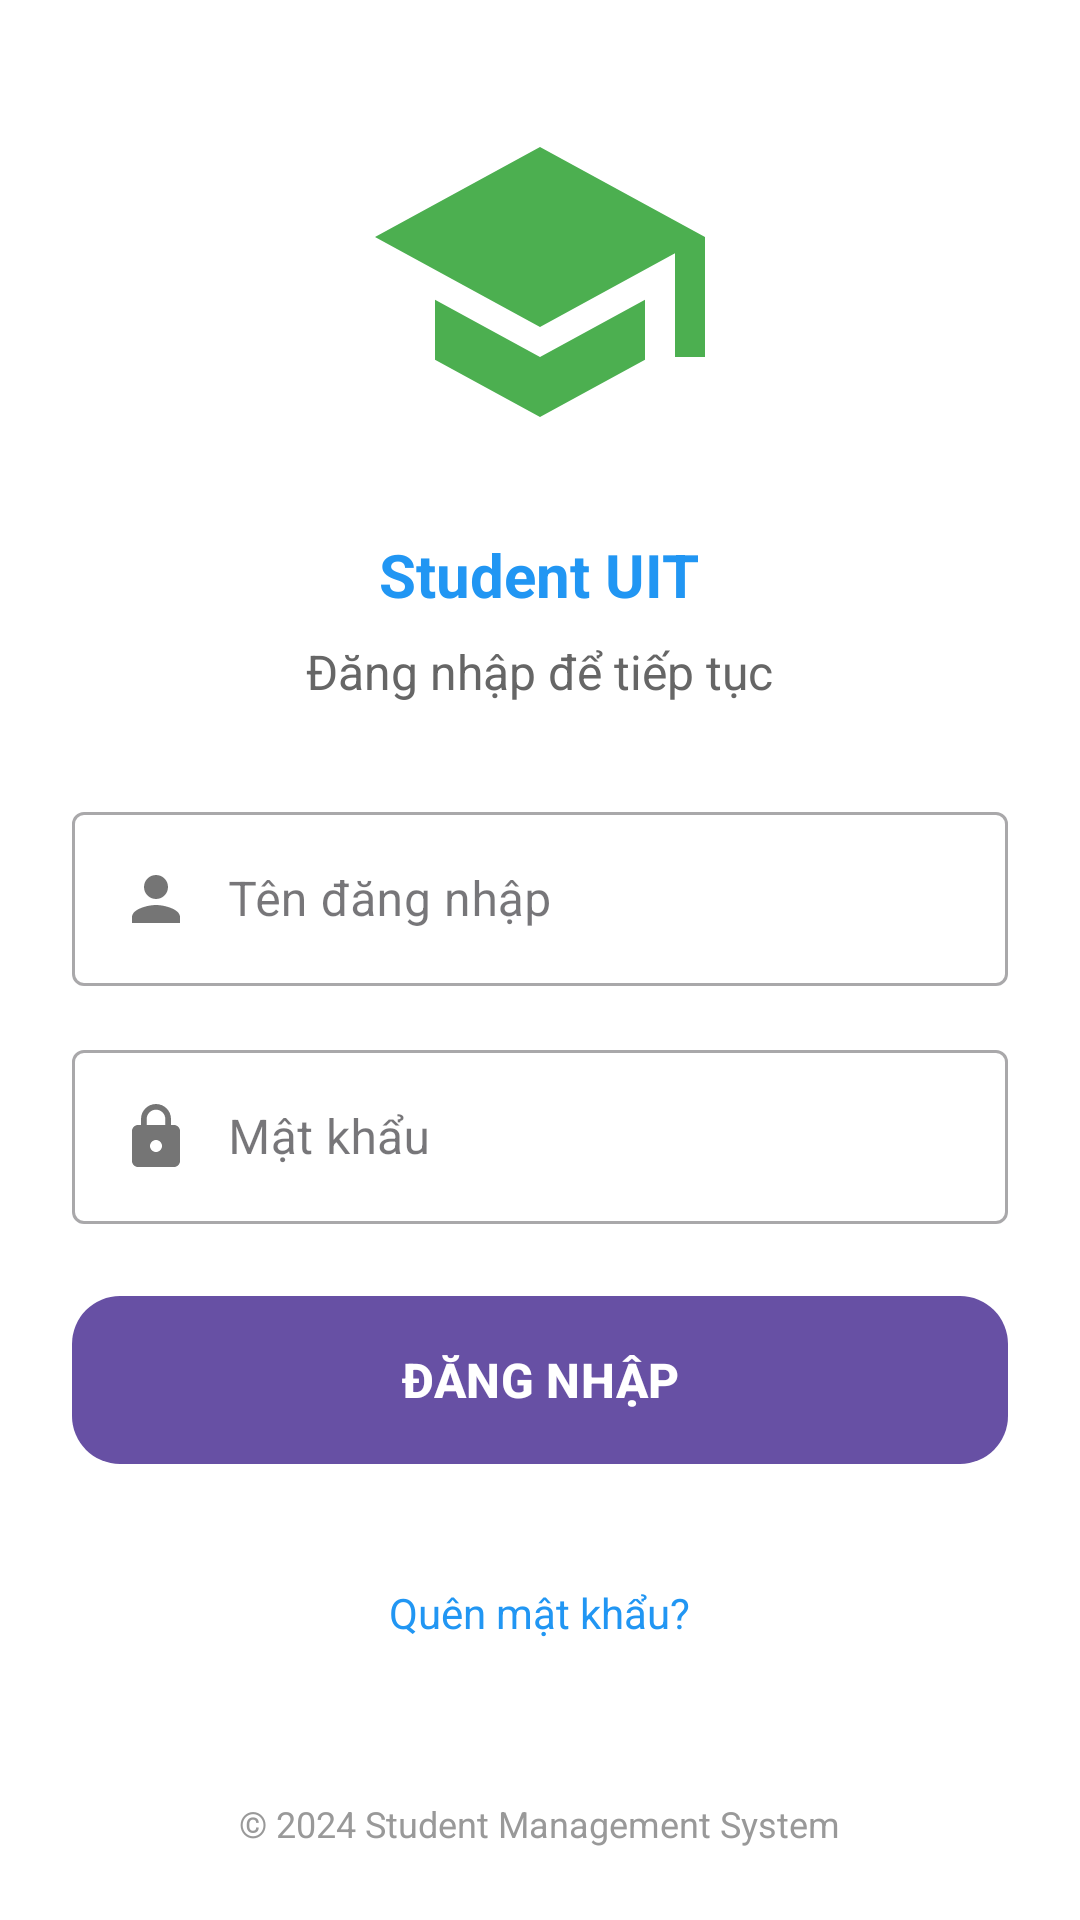

Named icons in this screenshot (1080 x 1920) and their centers, (x=x, y=y):
school: (x=540, y=282)
